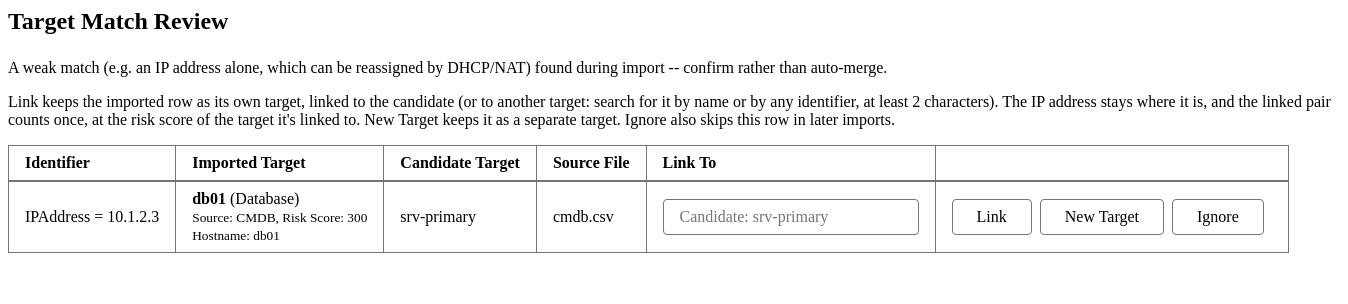
Test: TargetMatchReview.vue › UI review W4-4: feedback and a safeguard › says what was decided: linked, new target, ignored
Step 1. Click the button "Link" → {"x": 992, "y": 217}, box [952,199,1032,235]
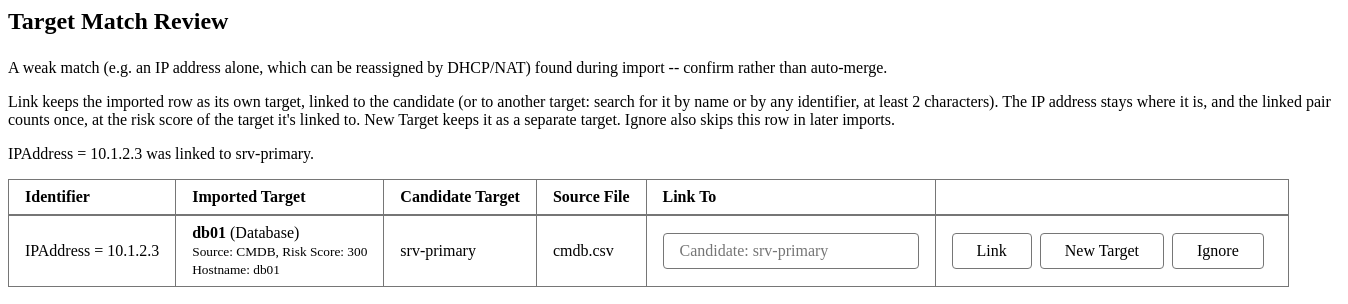
Expected: the message with class "resolve-notice" reads "IPAddress = 10.1.2.3 was linked to srv-primary.", [8,145,314,162]
Step 2. Click the button "New Target" → {"x": 1102, "y": 251}, box [1040,233,1164,269]
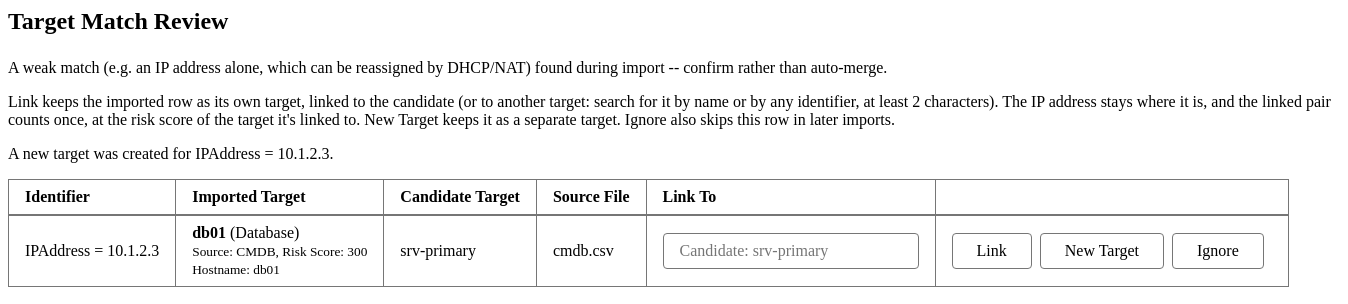
Expected: the message with class "resolve-notice" reads "A new target was created for IPAddress = 10.1.2.3.", [8,145,333,162]
Step 3. Click the button "Ignore" → {"x": 1218, "y": 251}, box [1172,233,1264,269]
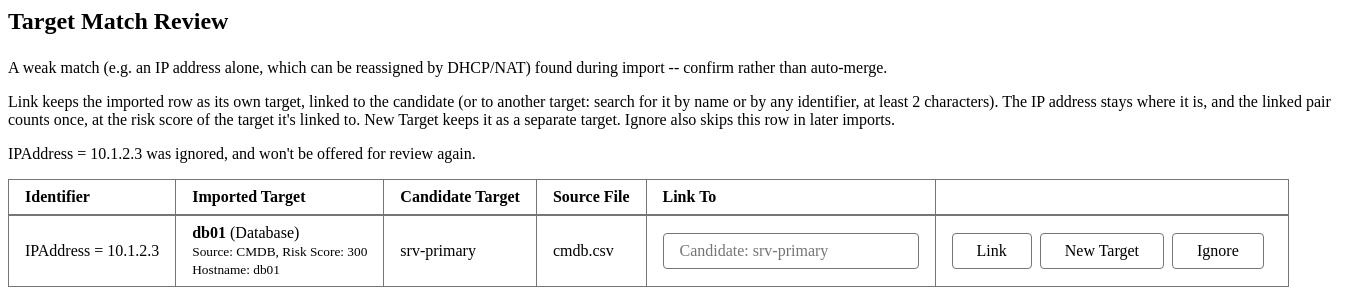
Expected: the message with class "resolve-notice" reads "IPAddress = 10.1.2.3 was ignored, and won't be offered for review again.", [8,145,476,162]
